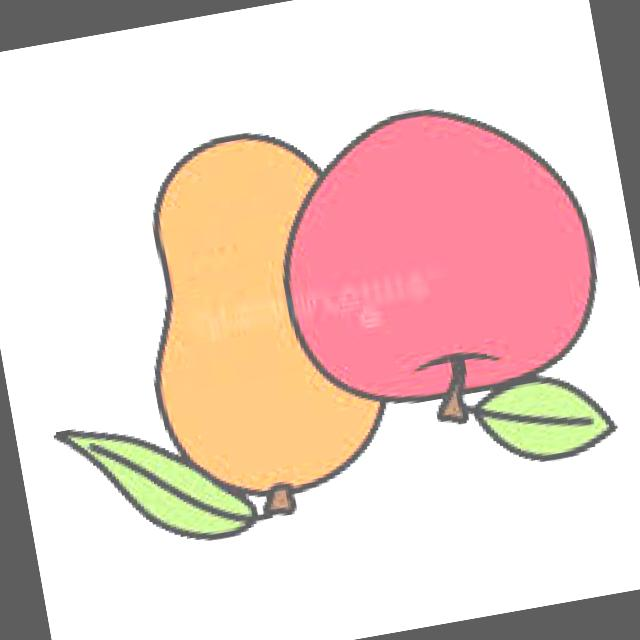Apple: (257, 76, 619, 428)
Mango: (109, 120, 398, 518)
